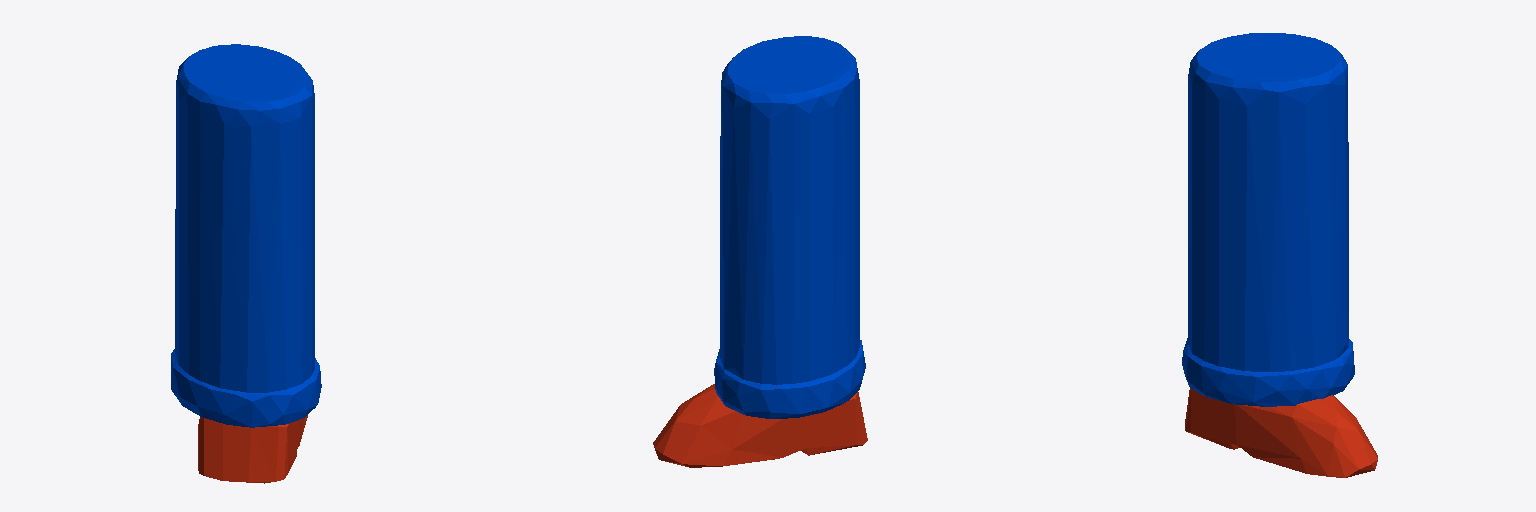
The model's file is piernaDer.obj.
The picture shows the model from 3 angles: view 1: azimuth 30°, elevation 25°; view 2: azimuth 150°, elevation 25°; view 3: azimuth 270°, elevation 25°; orthographic projection.
Parts seen in each view (by area): view 1: Pierna_Der_Homer_Sphere.004; view 2: Pierna_Der_Homer_Sphere.004; view 3: Pierna_Der_Homer_Sphere.004.
Boxes of the visible parts, box(x1,y1,x2,y2) form: Pierna_Der_Homer_Sphere.004: box(171, 44, 321, 483); Pierna_Der_Homer_Sphere.004: box(653, 36, 867, 467); Pierna_Der_Homer_Sphere.004: box(1182, 33, 1377, 477).
Size of the model in its own units: 0.742 by 1.72 by 0.8017.